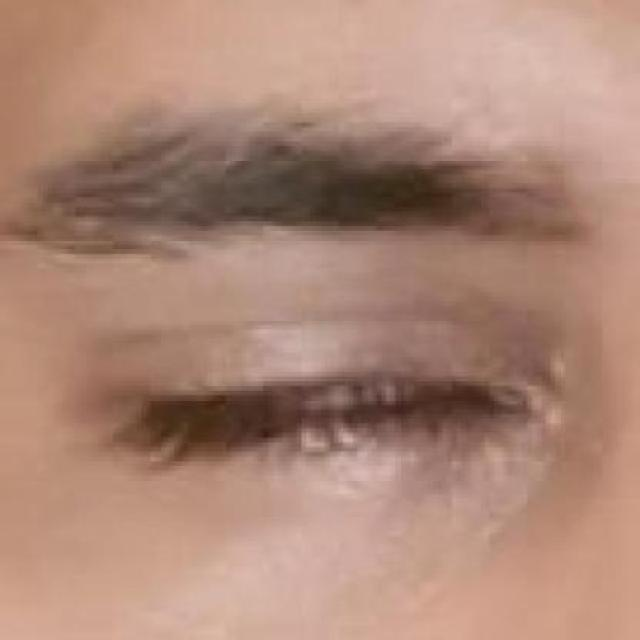drowsy: (112, 301, 519, 514)
